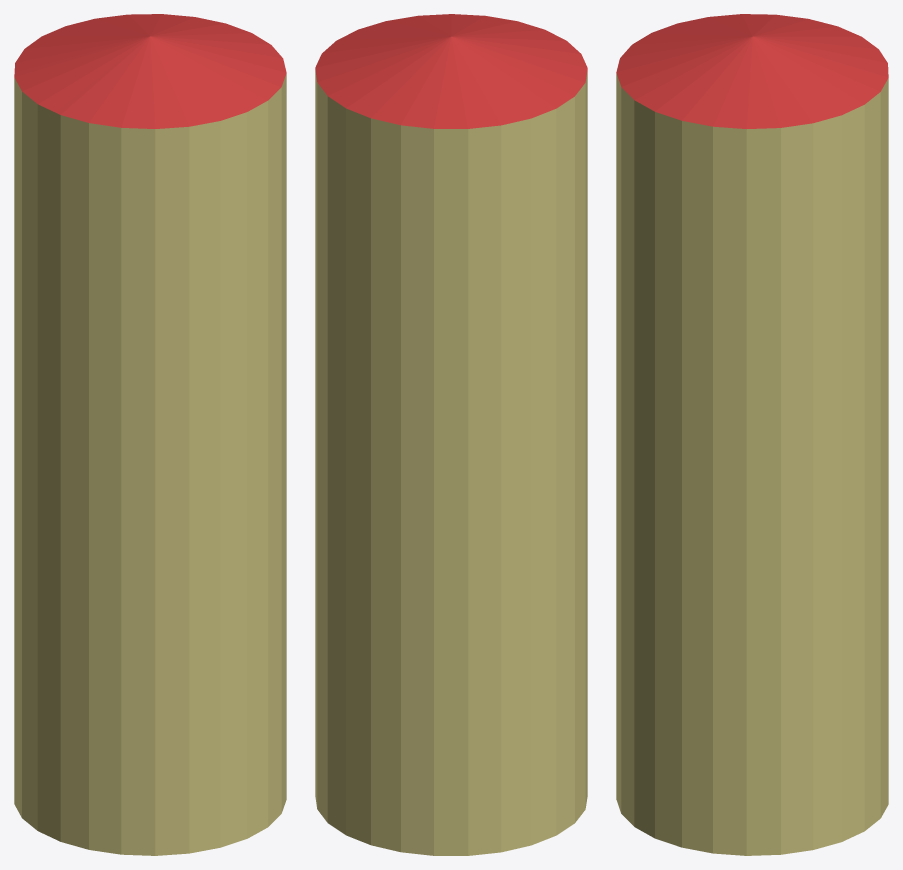
3 views of the same model, side by side, from view 1: azimuth 30°, elevation 25°; view 2: azimuth 150°, elevation 25°; view 3: azimuth 270°, elevation 25° (orthographic).
Size of the model in its own units: 7.17 by 7.17 by 22.12.
